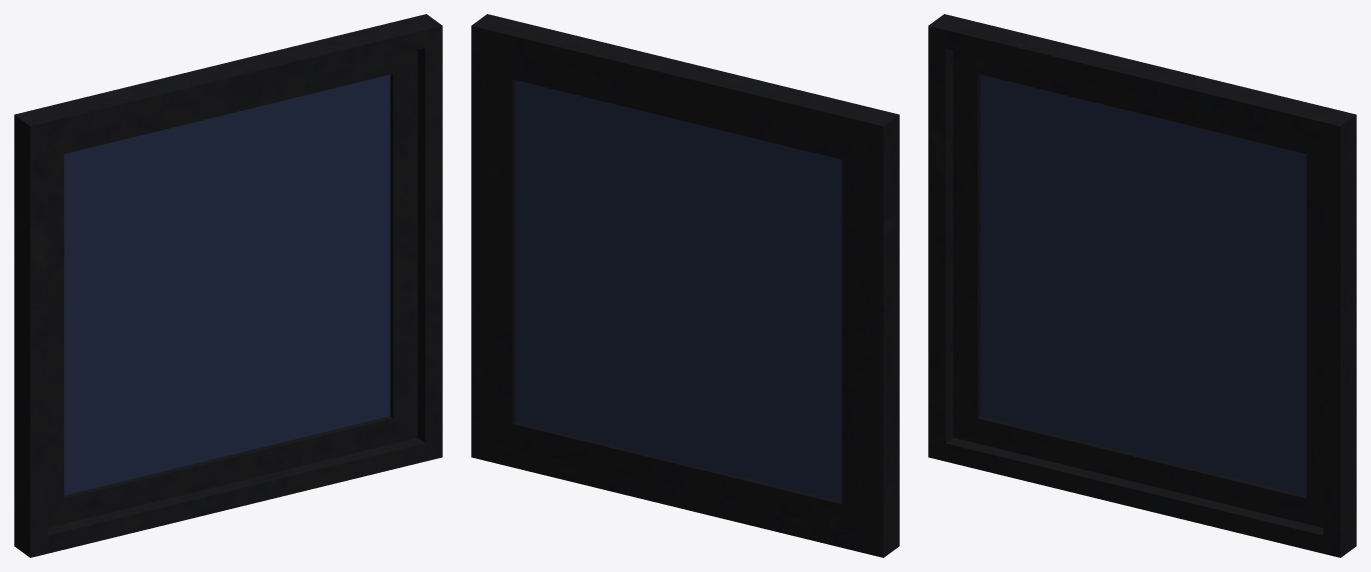
File: sb_obj_ModernCity028_window_a3.fbx
3 views of the same model, side by side, from view 1: azimuth 30°, elevation 25°; view 2: azimuth 150°, elevation 25°; view 3: azimuth 330°, elevation 25° (orthographic).
Visible parts, largest first — view 1: sb_obj_ModernCity028_window_a3; view 2: sb_obj_ModernCity028_window_a3; view 3: sb_obj_ModernCity028_window_a3.
Boxes of the visible parts, x1,y1,x2,y2 form: sb_obj_ModernCity028_window_a3: (14,14,442,557); sb_obj_ModernCity028_window_a3: (471,14,899,557); sb_obj_ModernCity028_window_a3: (928,14,1356,557).
Size of the model in its own units: 1 by 1 by 0.0677.
